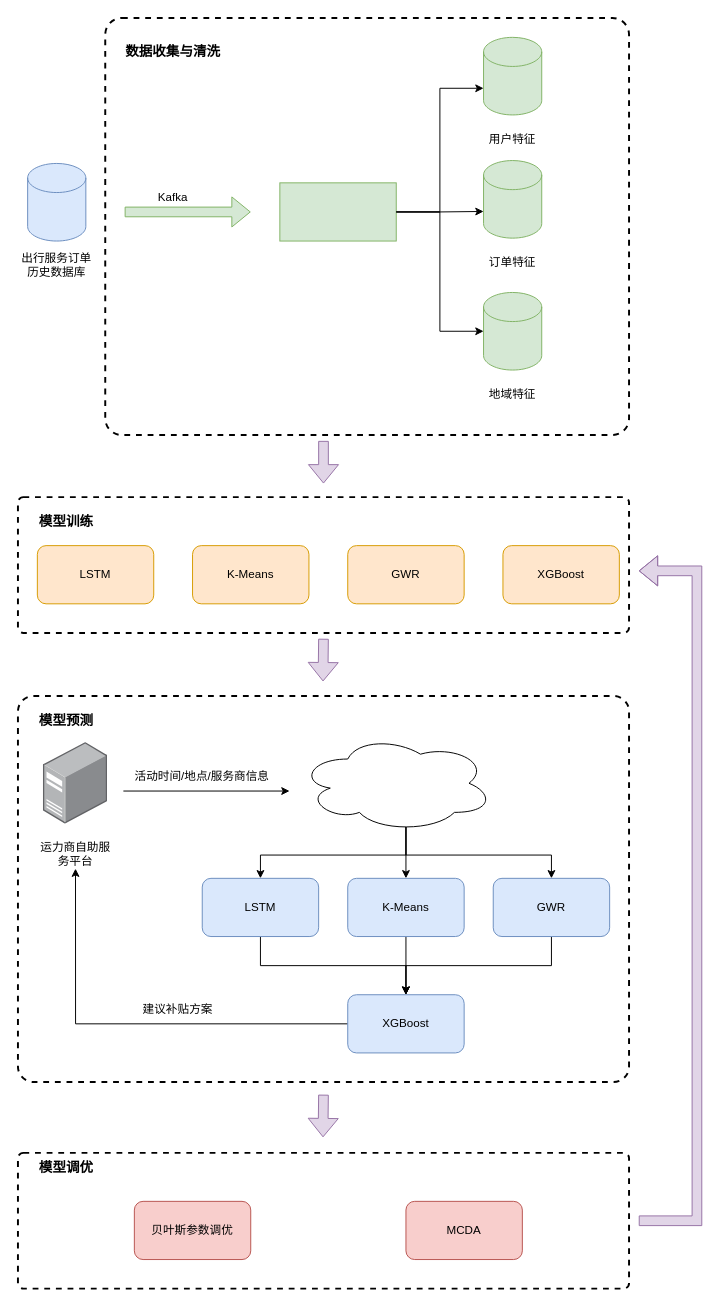
This 719x1306 diagram has some shape labels left out. Here are the shapes that lost their labels. From the top down, the box of each, then its label:
(279, 182, 396, 241): Hive 数据清洗
(298, 734, 493, 832): 腾讯太极模型部署平台
